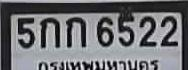2: (139, 15, 155, 46), (160, 16, 176, 46)
5: (117, 14, 133, 46), (17, 17, 34, 47)
6: (96, 16, 113, 46)
A01: (65, 16, 85, 47), (39, 17, 59, 47)
